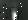person: (12, 5, 18, 20)
